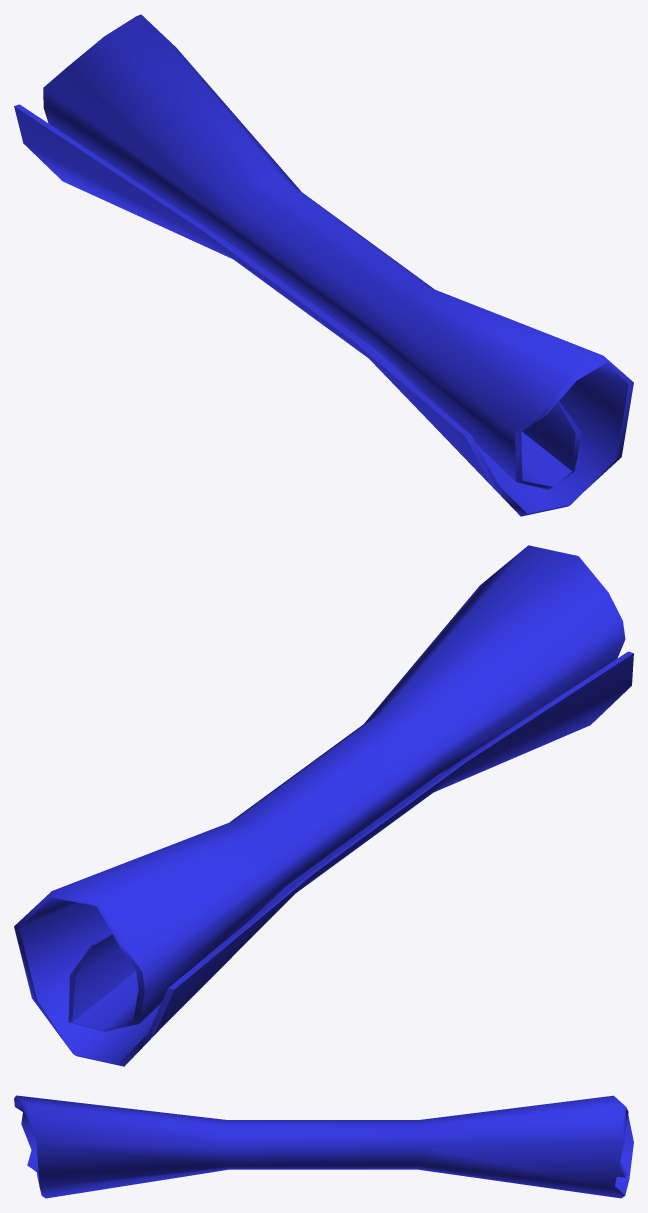
Rendered from MaviKağıt.fbx.
The picture shows the model from 3 angles, top to bottom: view 1: azimuth 30°, elevation 25°; view 2: azimuth 150°, elevation 25°; view 3: azimuth 270°, elevation 25°; orthographic projection. The views are drawn at different scales.
Visible parts, largest first — view 1: Kağıt; view 2: Kağıt; view 3: Kağıt.
Boxes of the visible parts, x1=… form: Kağıt: x1=14, y1=14, x2=633, y2=516; Kağıt: x1=14, y1=545, x2=633, y2=1066; Kağıt: x1=14, y1=1095, x2=633, y2=1198.
Size of the model in its own units: 261 by 245 by 1366.
